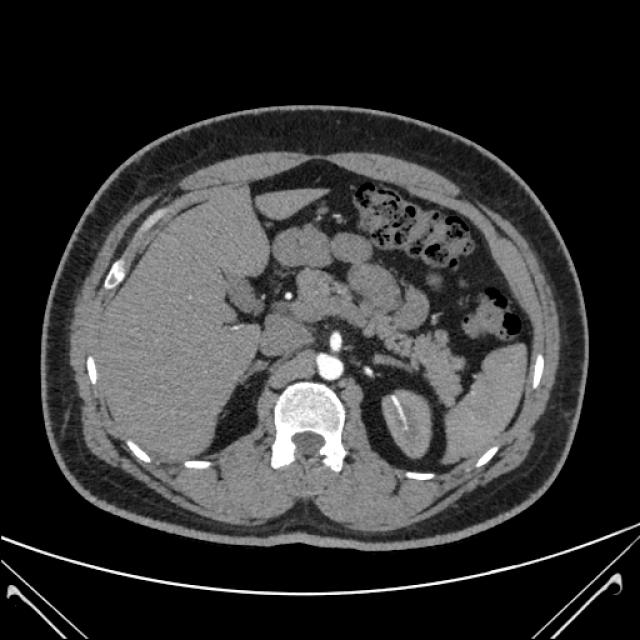Kidney: (93, 49, 601, 531)
